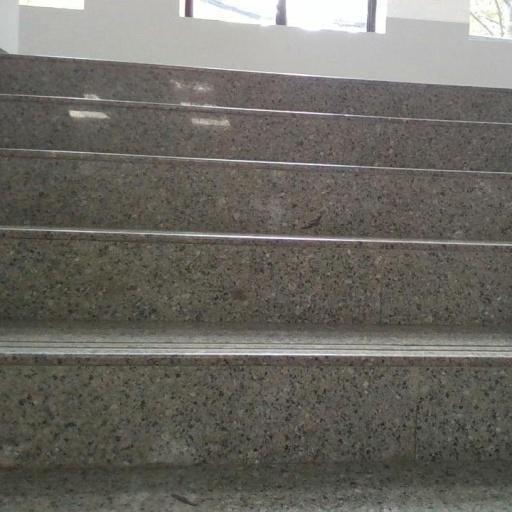stairs: (0, 56, 511, 473)
